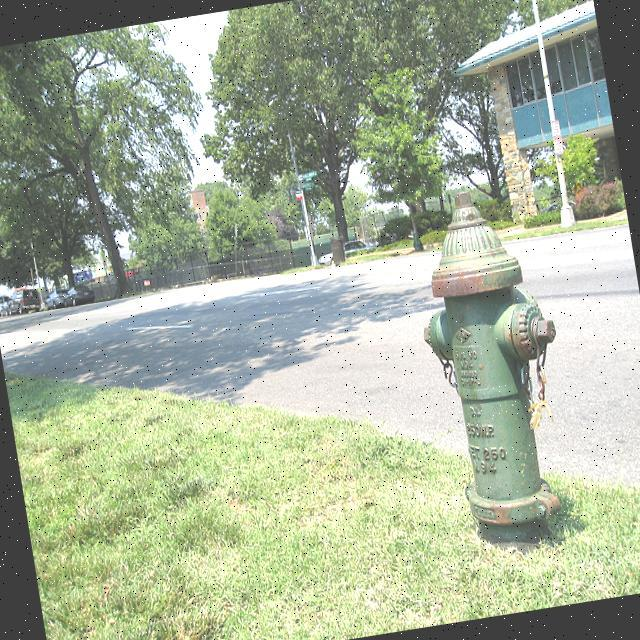fire_hydrant: (402, 192, 575, 544)
